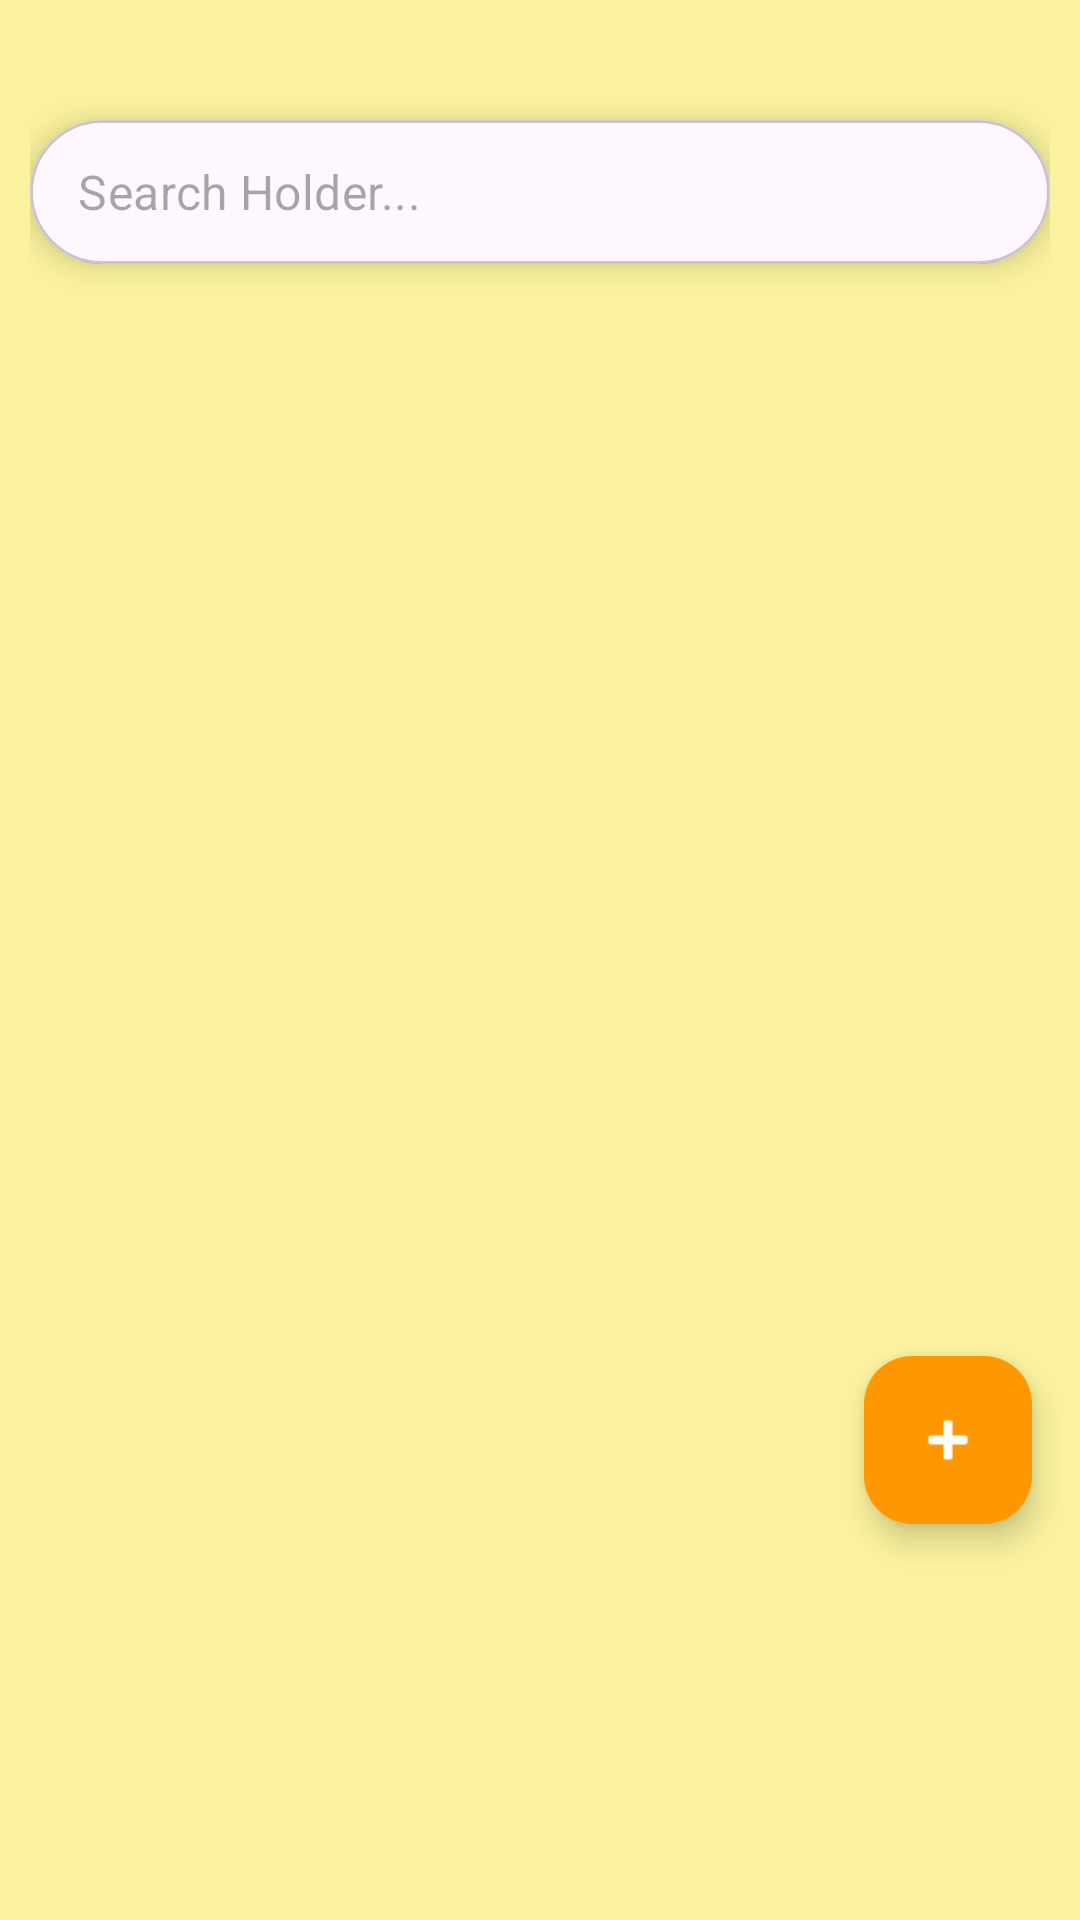

Icon bounding boxes for this 1080w x 1920h phone screenshot, format bbox(x1, y1, x2, y2):
Add Customer: bbox(864, 1356, 1032, 1524)
